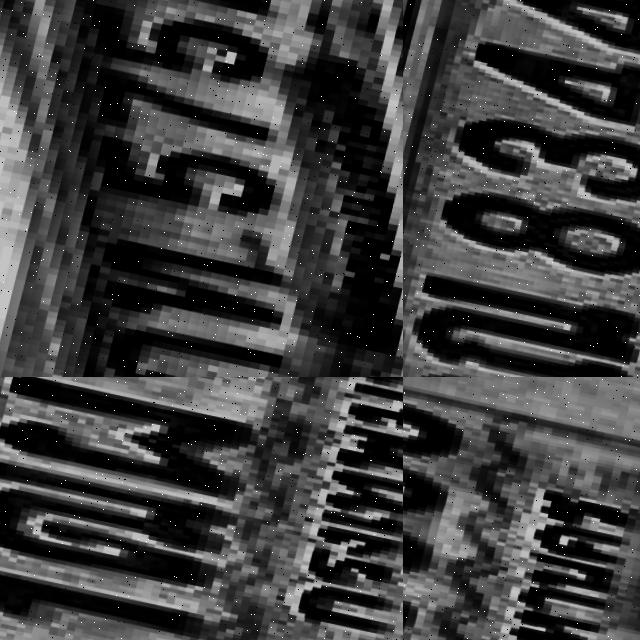license-plate: (0, 0, 403, 377), (0, 377, 403, 640), (403, 0, 640, 377), (403, 377, 640, 640)
